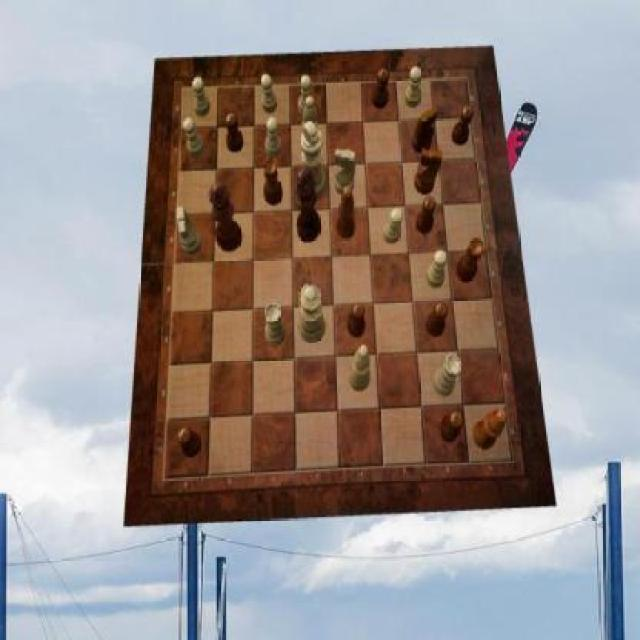bishop: (474, 409, 509, 451), (337, 186, 357, 240)
black-bishop: (294, 168, 321, 242)
black-king: (415, 150, 443, 196), (412, 106, 438, 154)
black-knight: (452, 106, 475, 146), (426, 302, 449, 338), (440, 411, 464, 443), (417, 197, 437, 235), (177, 428, 201, 458), (226, 114, 244, 154), (372, 69, 390, 109), (348, 302, 365, 338)
black-pawn: (209, 182, 243, 252)
black-queen: (457, 237, 485, 282), (263, 159, 283, 206)
black-rook: (300, 95, 320, 157), (349, 346, 370, 392)
white-bishop: (300, 120, 326, 202)
white-king: (177, 207, 201, 256), (336, 149, 356, 197)
white-knight: (184, 117, 206, 158), (426, 251, 447, 289), (298, 75, 316, 118), (192, 77, 210, 117), (406, 66, 423, 108), (383, 209, 403, 244), (264, 117, 280, 158), (262, 74, 278, 114)
white-pawn: (299, 285, 326, 343)
white-queen: (434, 354, 461, 396), (264, 303, 286, 347)
